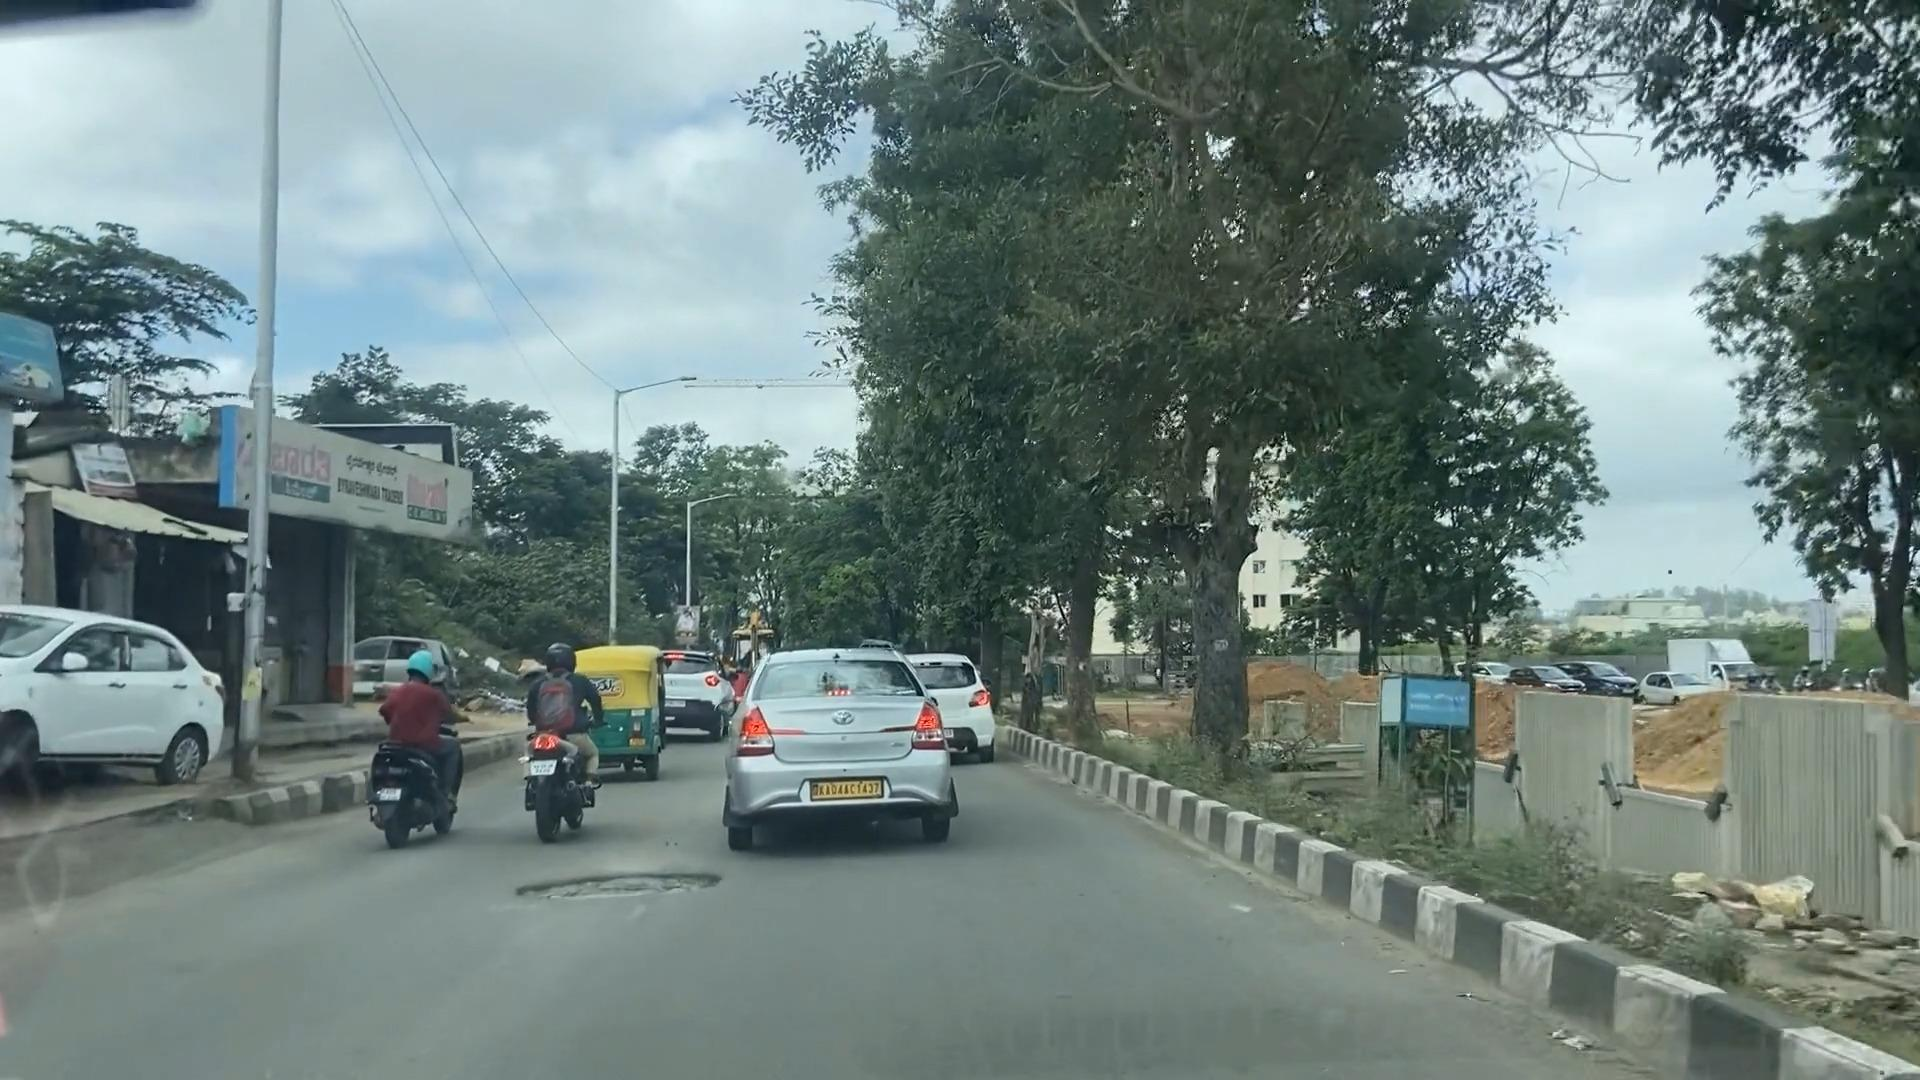LMV: (727, 662, 952, 820), (367, 644, 464, 839), (524, 626, 605, 816)
RoadDamages: (508, 864, 733, 913)
